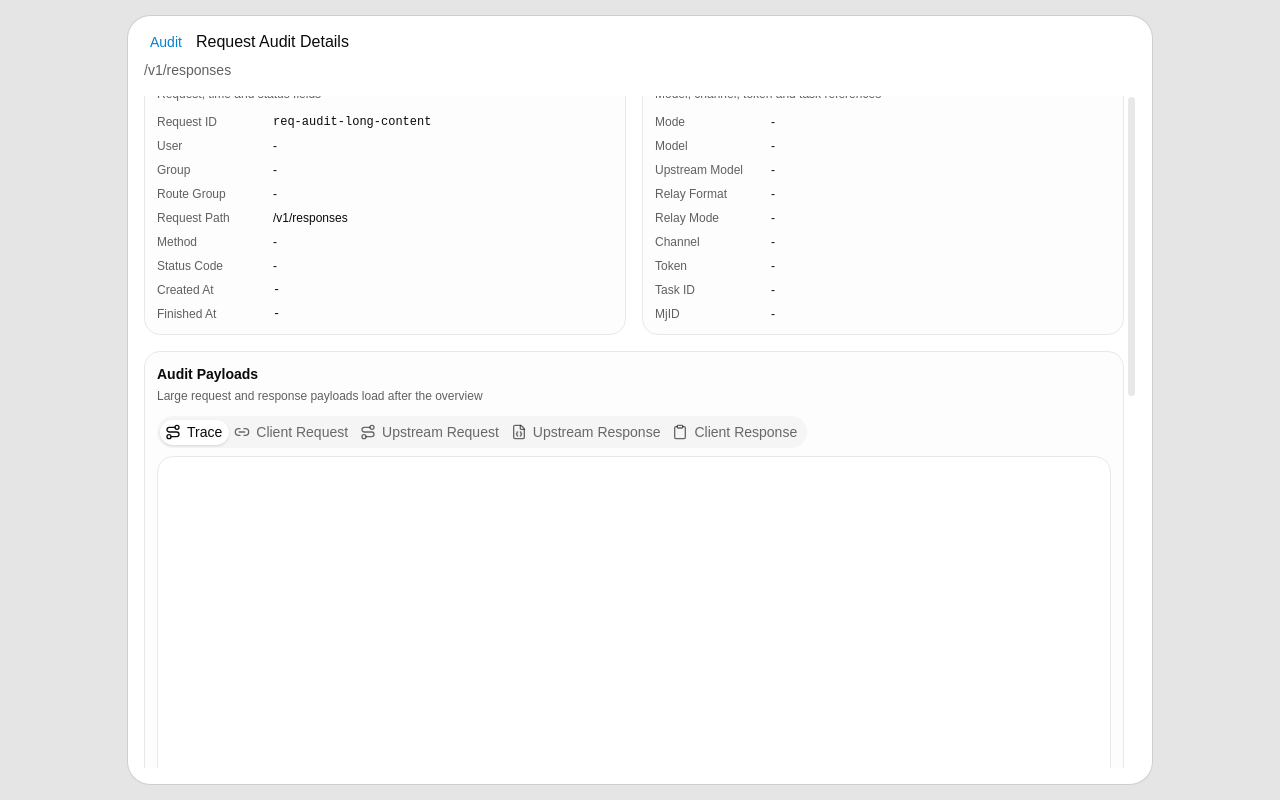
Scenario: request audit dialog layout › keeps long answer and payload tokens inside the dialog width
(page scrolled)
Step 1. Click the tab "Client Request" → (292, 432), box [229,420,355,444]
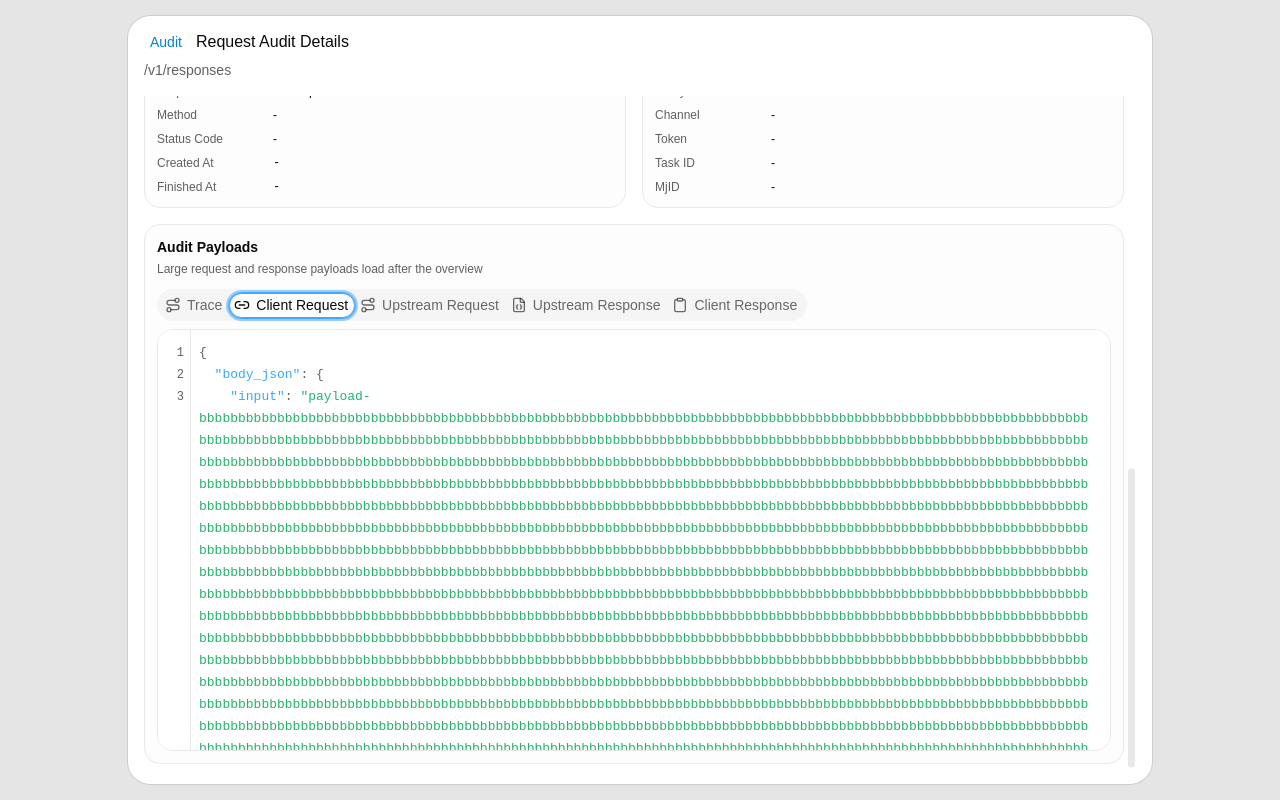
Expected: the element with class "cm-scroller" is shown, [158,330,1110,750]
